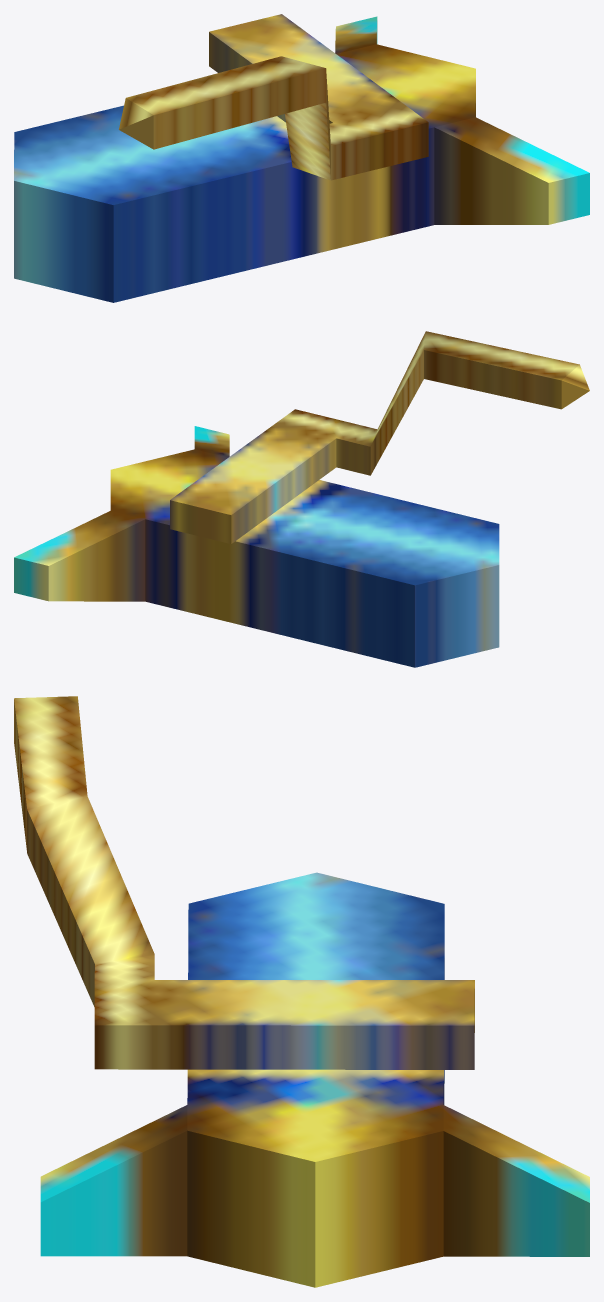
3 views of the same model, one above another, from view 1: azimuth 30°, elevation 25°; view 2: azimuth 150°, elevation 25°; view 3: azimuth 270°, elevation 25° (orthographic). The views are drawn at different scales.
Visible parts, largest first — view 1: aw222; view 2: aw222; view 3: aw222.
Part boxes in pixels (x1,y1,x2,y2): aw222: (14, 14, 589, 302); aw222: (14, 331, 589, 667); aw222: (14, 696, 589, 1287).
Size of the model in its own units: 15 by 7.43 by 12.36.
Materials: 1 (1 with a texture image).
